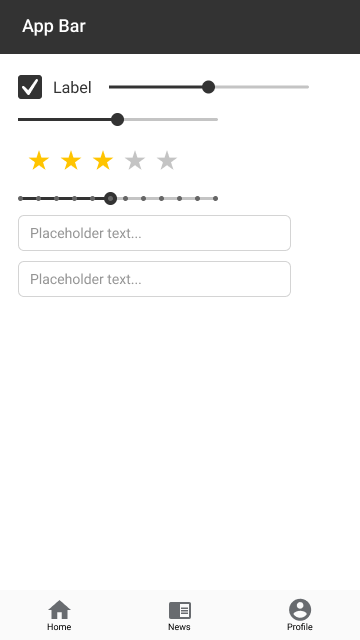checkBox: (16, 72, 94, 101)
editText: (16, 212, 294, 254), (16, 258, 293, 300)
navigationButton: (1, 587, 360, 640)
ratingBar: (27, 147, 184, 173)
slider: (14, 190, 223, 206)
slider1: (103, 79, 314, 94), (17, 112, 219, 126)
toolbar: (1, 1, 359, 54)
